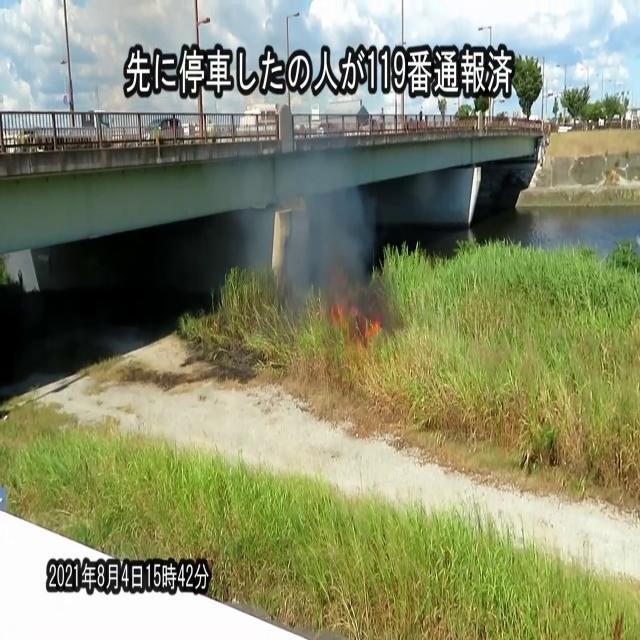Smoke: (230, 140, 382, 325)
